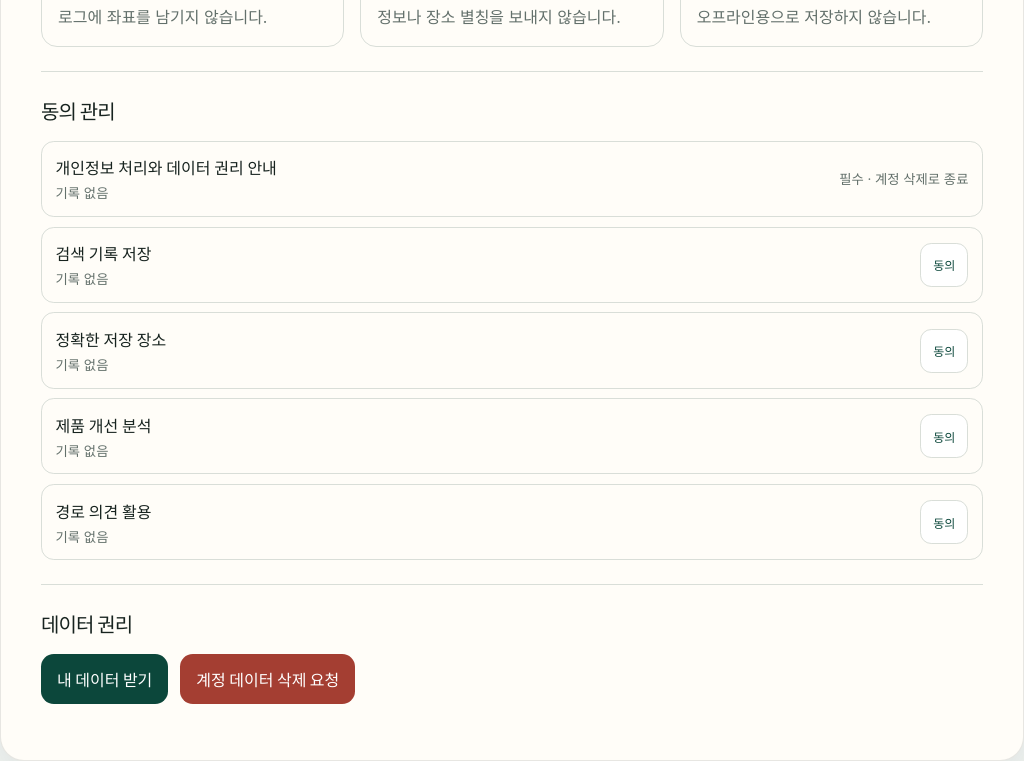
Scenario: PrivacyPage consent document version › does not expose an expired export download URL
The width and height of the screenshot is (1024, 761).
(page scrolled)
Step 1. Click the button "내 데이터 받기" → (105, 679), box [41,654,168,704]
(page scrolled)
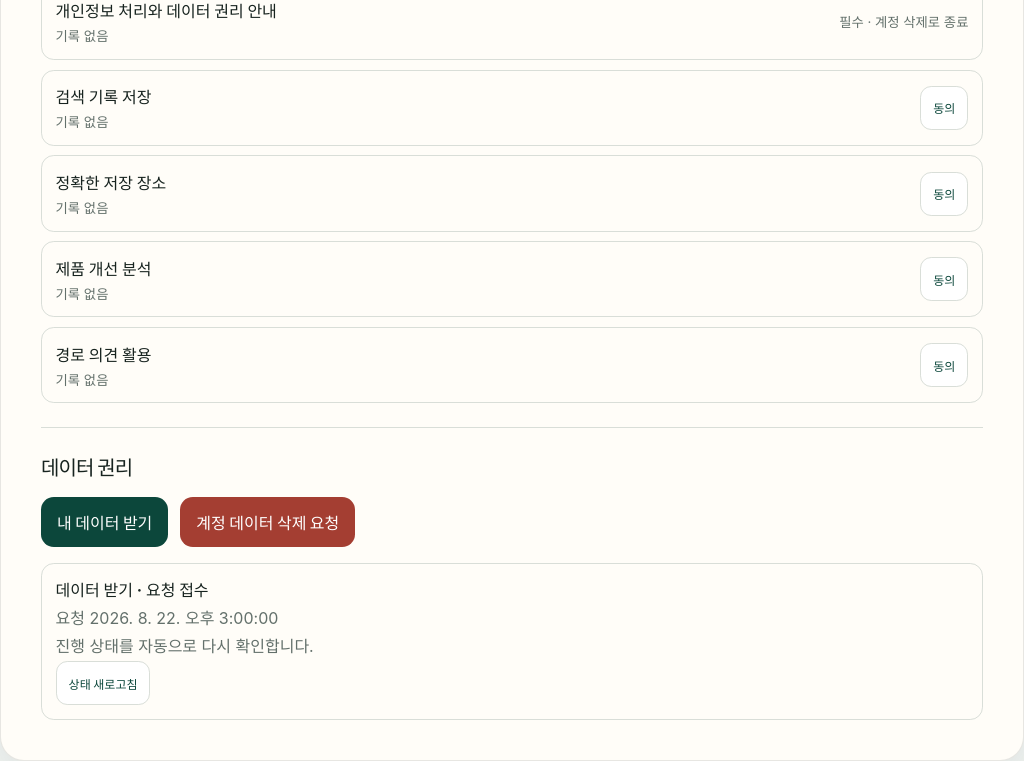
Step 2. Click the button "상태 새로고침" → (103, 683), box [56,661,150,705]
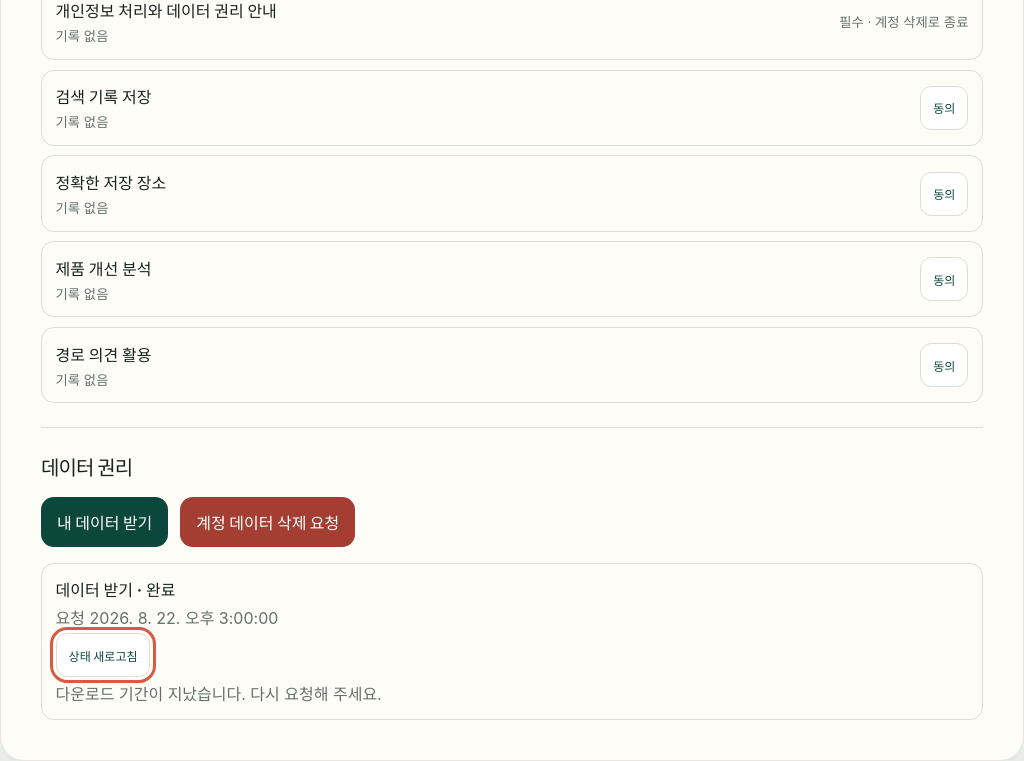
Now the text "다운로드 기간이 지났습니다. 다시 요청해 주세요." is shown, box [56,681,382,705]
